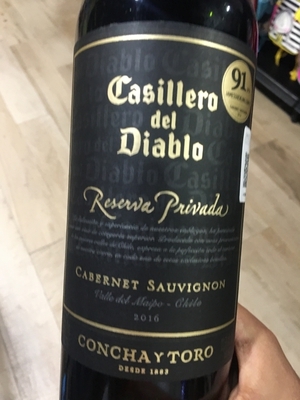casillero del diablo reserva privada cabernet sauvignon: (57, 5, 256, 400)
